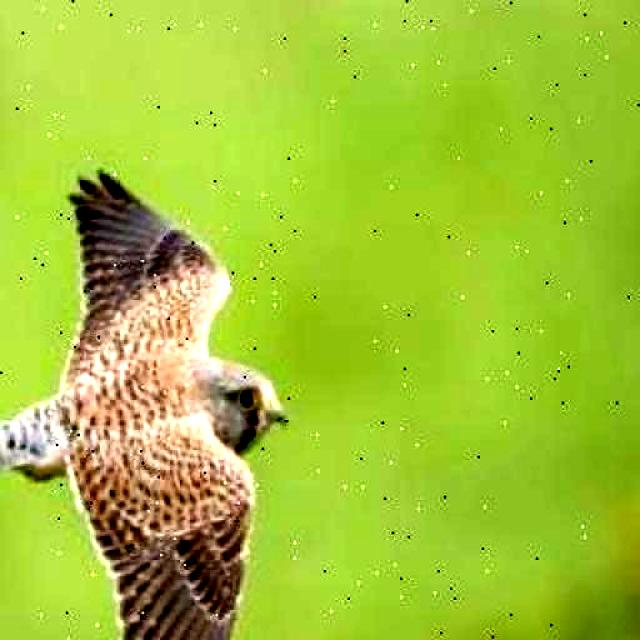airplane: (0, 135, 366, 640)
